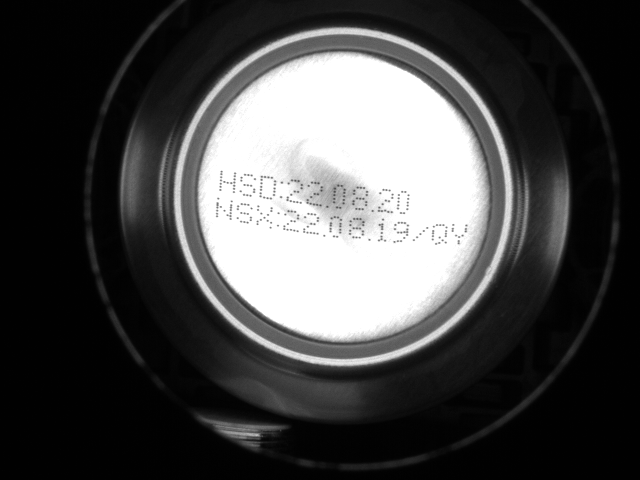/: (411, 224, 429, 245)
0: (328, 178, 348, 209), (325, 214, 342, 239), (396, 191, 412, 216)
1: (374, 219, 388, 245)
2: (307, 177, 327, 209), (285, 176, 305, 204), (375, 188, 395, 214), (283, 207, 300, 231), (304, 211, 320, 235)
8: (349, 186, 370, 209), (348, 215, 365, 242)
9: (392, 218, 409, 245)
D: (259, 171, 278, 202)
H: (219, 169, 237, 194)
N: (214, 199, 235, 225)
Q: (431, 223, 447, 245)
S: (238, 170, 257, 199), (236, 200, 253, 226)
X: (255, 204, 276, 230)
Y: (451, 222, 468, 247)
